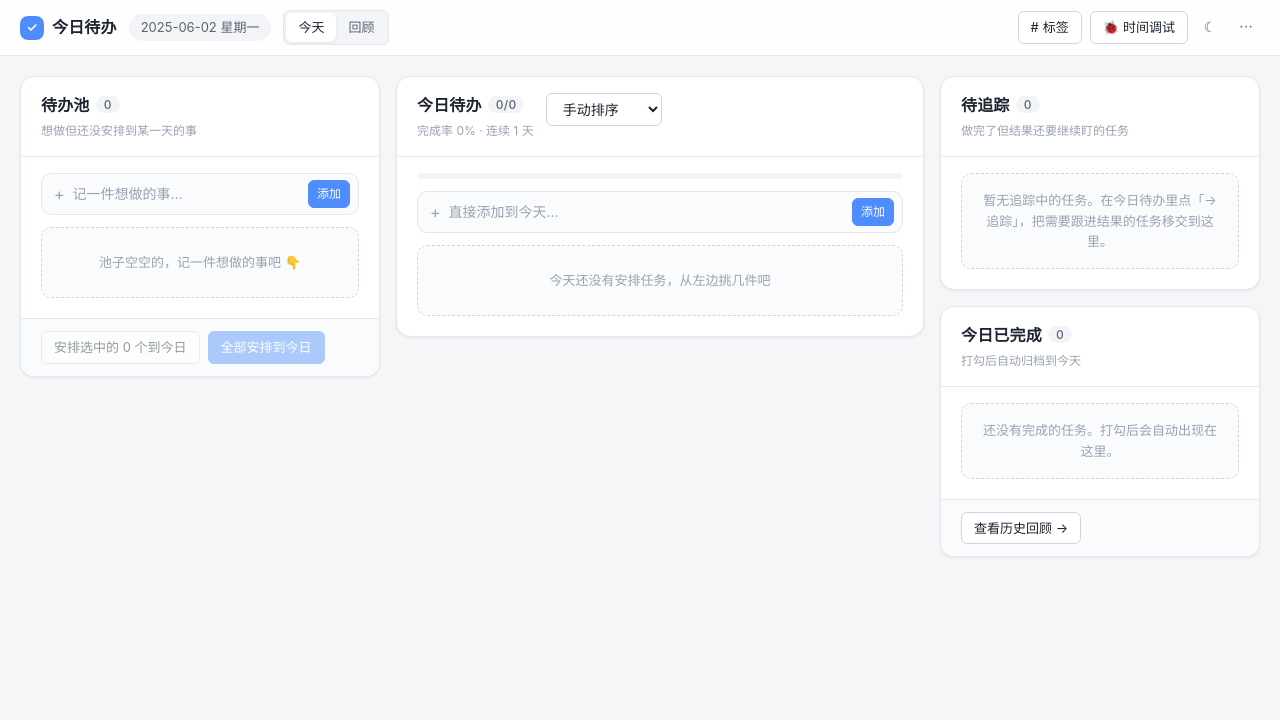
Test: App 真实渲染（jsdom） › 回顾页日历：热力格显示件数，点某天能看到那天的完成清单
The image size is (1280, 720).
Click the button "回顾": (361, 28) left=336, top=13, right=386, bottom=42
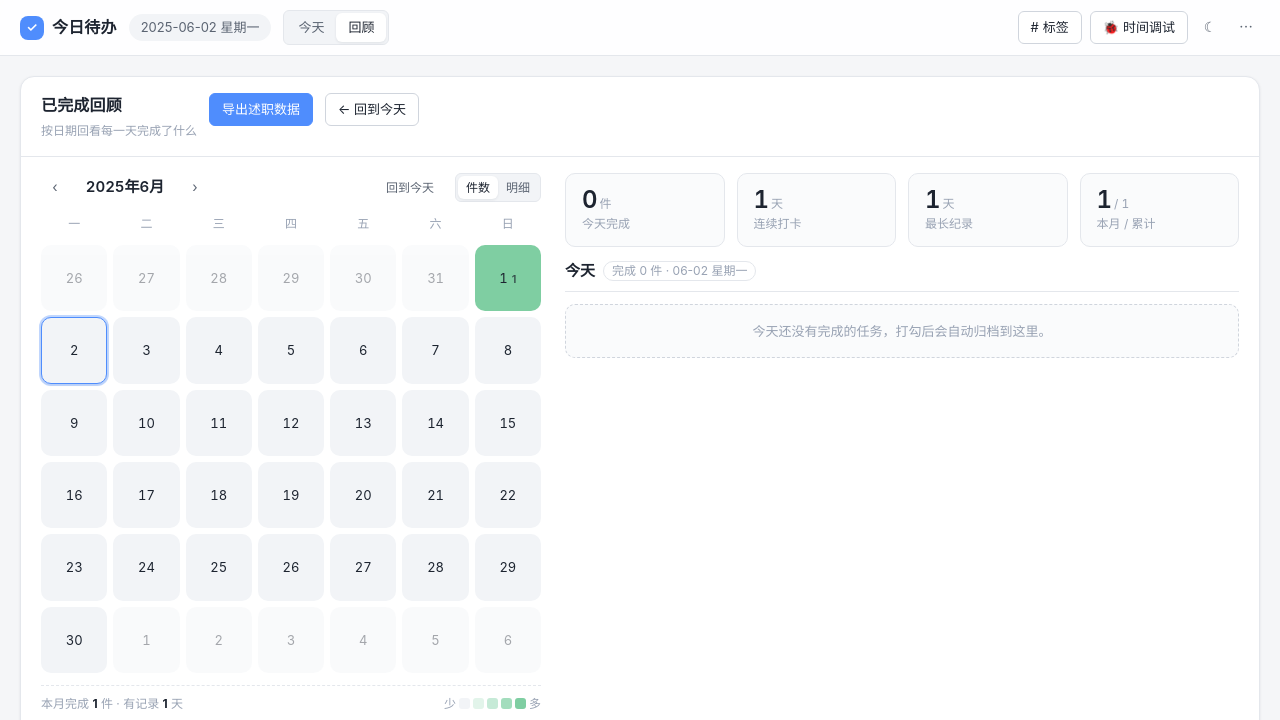
Check: the cell named "2025-06-01 星期日，完成 1 件" is shown
Check: the heading "今天" is shown, box left=565, top=259, right=595, bottom=283
Check: the text "今天还没有完成的任务，打勾后会自动归档到这里。" is shown, box left=565, top=304, right=1239, bottom=358
Click the cell named "2025-06-01 星期日，完成 1 件": (508, 278) left=475, top=245, right=541, bottom=312
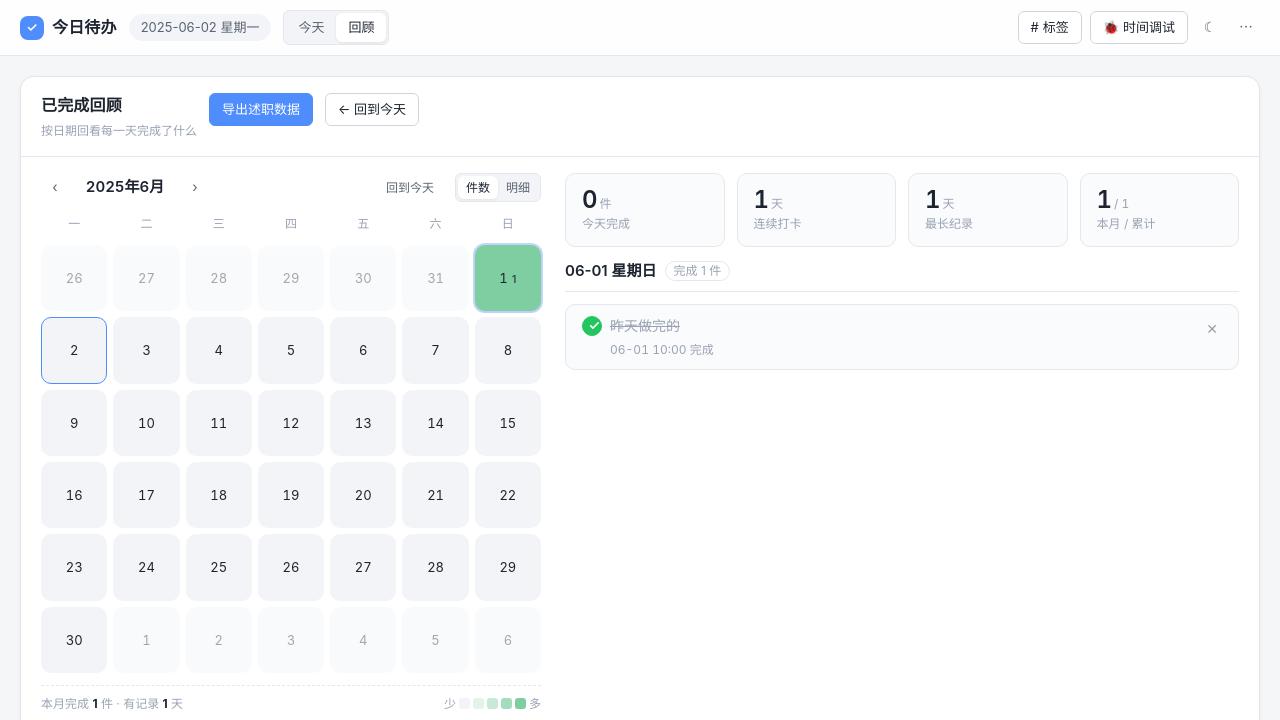
Check: the text "本月完成 1 件 · 有记录 1 天" is shown, box left=41, top=694, right=183, bottom=713
Check: the button "昨天做完的" is shown, box left=610, top=315, right=1190, bottom=337
Check: the text "完成 1 件" is shown, box left=664, top=261, right=730, bottom=281
